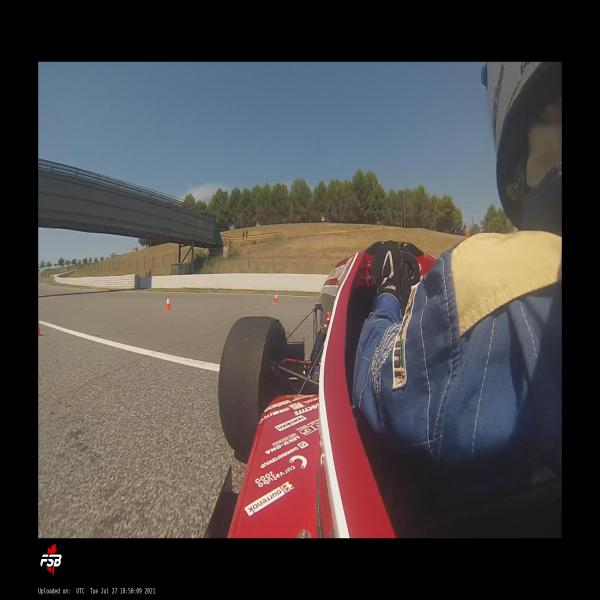orange_cone: (165, 295, 171, 311), (273, 292, 278, 304)
